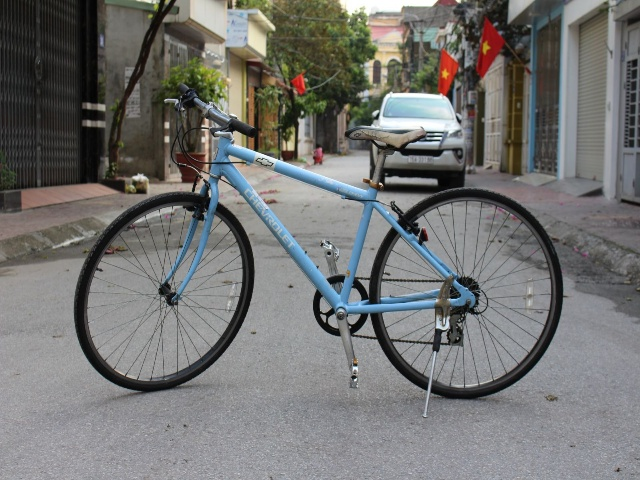Xe_dap: (65, 78, 570, 418)
